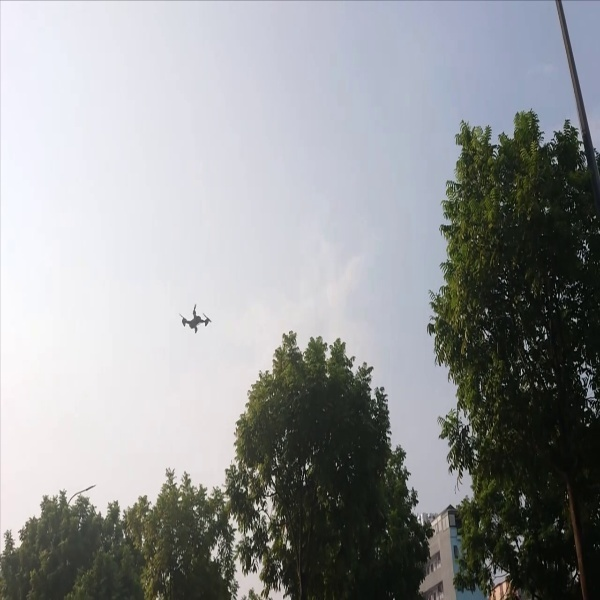drone: (171, 294, 220, 343)
